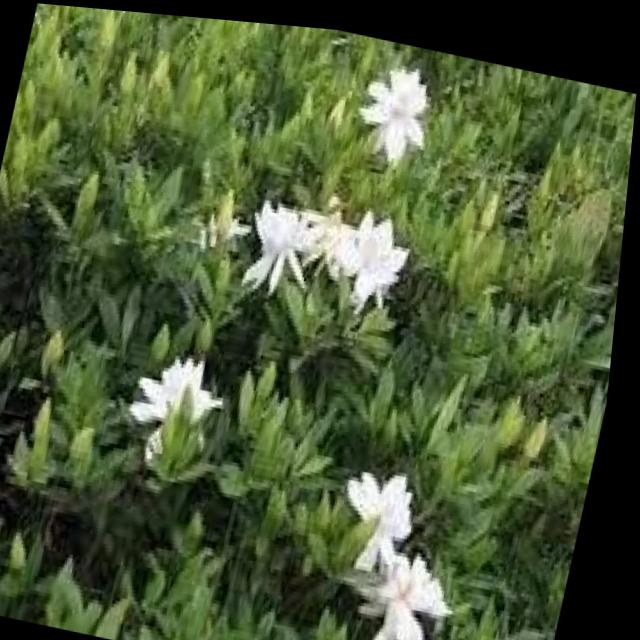Flower: (231, 172, 357, 332), (371, 531, 476, 640), (342, 457, 444, 569), (327, 190, 424, 305), (356, 58, 448, 173), (135, 344, 238, 442)
